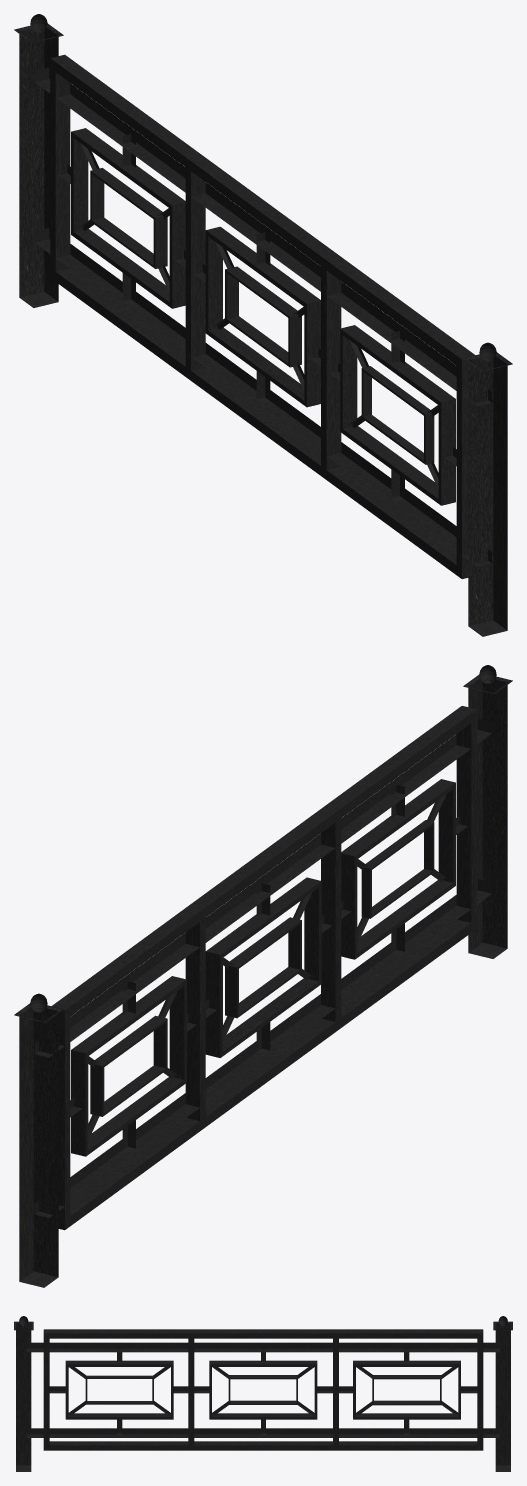
The model's file is pedestrian_fence.fbx.
The picture shows the model from 3 angles, top to bottom: view 1: azimuth 30°, elevation 25°; view 2: azimuth 150°, elevation 25°; view 3: azimuth 270°, elevation 25°; orthographic projection. The views are drawn at different scales.
Visible parts, largest first — view 1: Куб.016; view 2: Куб.016; view 3: Куб.016.
Part boxes in pixels (x1,y1,x2,y2): Куб.016: (14,14,512,636); Куб.016: (14,665,512,1287); Куб.016: (14,1316,512,1471).
Bounding box in the file's own units: 13.65 × 117 × 349.
